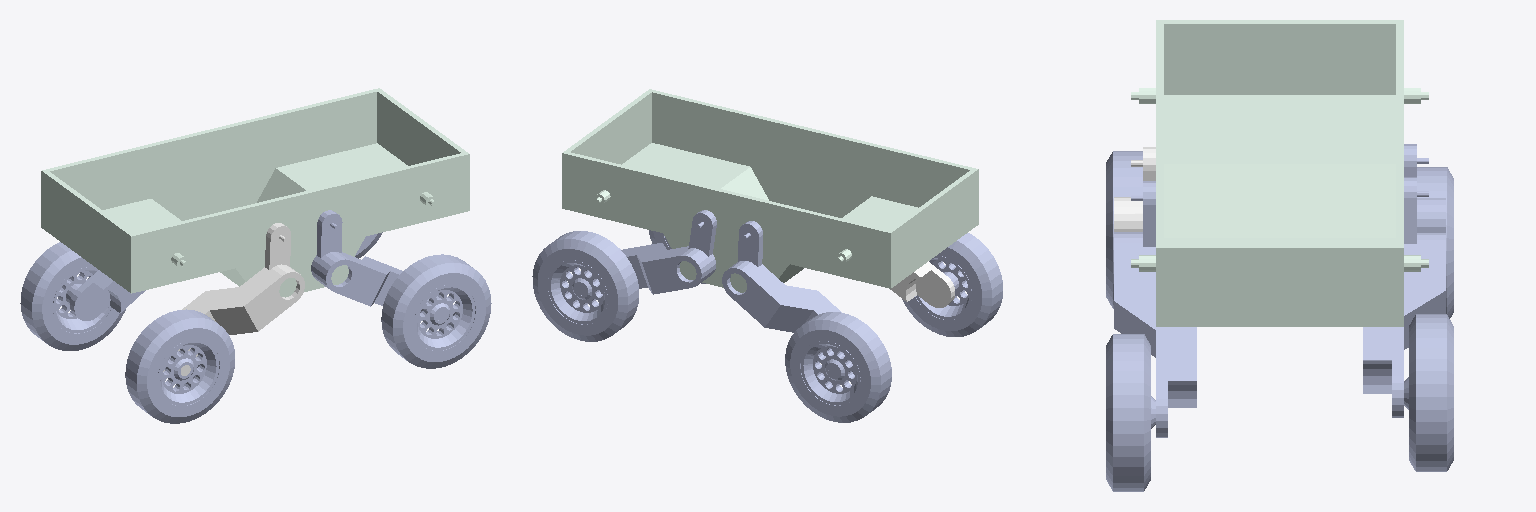
URDF robot description (urdf):
<?xml version="1.0" encoding="utf-8"?>
<!-- This URDF was automatically created by SolidWorks to URDF Exporter! Originally created by [author] ([email redacted]) 
     Commit Version: 1.6.0-4-g7f85cfe  Build Version: 1.6.7995.38578
     For more information, please see http://wiki.ros.org/sw_urdf_exporter -->
<robot
  name="urdf">
  <link
    name="base_link">
    <inertial>
      <origin
        xyz="-1.1833E-17 6.993E-16 -0.18893"
        rpy="0 0 0" />
      <mass
        value="100.00" />
      <inertia
        ixx="2.1994"
        ixy="-6.9796E-16"
        ixz="-1.0409E-15"
        iyy="5.8335"
        iyz="-6.0685E-15"
        izz="7.3738" />
    </inertial>
    <visual>
      <origin
        xyz="0 0 0"
        rpy="0 0 0" />
      <geometry>
        <mesh
          filename="../meshes/base_link.STL" />
      </geometry>
      <material
        name="">
        <color
          rgba="0.92941 1 0.95686 1" />
      </material>
    </visual>
    <collision>
      <origin
        xyz="0 0 0"
        rpy="0 0 0" />
      <geometry>
        <mesh
          filename="../meshes/base_link.STL" />
      </geometry>
    </collision>
  </link>
  <link
    name="lb_Link">
    <inertial>
      <origin
        xyz="-0.167137972568874 0.000576453381228637 -0.0981771092292079"
        rpy="0 0 0" />
      <mass
        value="5" />
      <inertia
        ixx="0.0663395313797743"
        ixy="-0.0198368647273712"
        ixz="-0.052891266693704"
        iyy="0.130501097881963"
        iyz="-0.0131143090440989"
        izz="0.0965282148403548" />
    </inertial>
    <visual>
      <origin
        xyz="0 0 0"
        rpy="0 0 0" />
      <geometry>
        <mesh
          filename="../meshes/lb_Link.STL" />
      </geometry>
      <material
        name="">
        <color
          rgba="0.792156862745098 0.819607843137255 0.933333333333333 1" />
      </material>
    </visual>
    <collision>
      <origin
        xyz="0 0 0"
        rpy="0 0 0" />
      <geometry>
        <mesh
          filename="../meshes/lb_Link.STL" />
      </geometry>
    </collision>
  </link>
  <joint
    name="g_lb"
    type="revolute">
    <origin
      xyz="-0.1 0.3 -0.28"
      rpy="0 0 0" />
    <parent
      link="base_link" />
    <child
      link="lb_Link" />
    <axis
      xyz="0 1 0" />
    <limit
      lower="-0.35"
      upper="0.35"
      effort="10"
      velocity="5" />
    <dynamics
      damping="0.1"
      friction="1" />
    <safety_controller
      soft_upper_limit="0.4"
      soft_lower_limit="-0.4"
      k_position="10"
      k_velocity="5" />
  </joint>
  <link
    name="w_lb">
    <inertial>
      <origin
        xyz="0 -0.0348147111715202 -2.22044604925031E-16"
        rpy="0 0 0" />
      <mass
        value="3.0" />
      <inertia
        ixx="0.104467237310049"
        ixy="-1.15387010199145E-17"
        ixz="2.51330557318112E-17"
        iyy="0.1930974754698"
        iyz="3.04293329425915E-16"
        izz="0.104467237310049" />
    </inertial>
    <visual>
      <origin
        xyz="0 0 0"
        rpy="0 0 0" />
      <geometry>
        <mesh
          filename="../meshes/w_lb.STL" />
      </geometry>
      <material
        name="">
        <color
          rgba="0.792156862745098 0.819607843137255 0.933333333333333 1" />
      </material>
    </visual>
    <collision>
      <origin
        xyz="0 0 0"
        rpy="0 0 0" />
      <geometry>
        <mesh
          filename="../meshes/w_lb.STL" />
      </geometry>
    </collision>
  </link>
  <joint
    name="w_lb"
    type="continuous">
    <origin
      xyz="-0.38089 0.1 -0.23963"
      rpy="0 0 0" />
    <parent
      link="lb_Link" />
    <child
      link="w_lb" />
    <axis
      xyz="0 -1 0" />
    <dynamics
      damping="0.1"
      friction="1" />
  </joint>
  <link
    name="lf_Link">
    <inertial>
      <origin
        xyz="0.182162464509715 0.000576453381228526 -0.0662622303788842"
        rpy="0 0 0" />
      <mass
        value="5" />
      <inertia
        ixx="0.0484781635635341"
        ixy="0.0218850219603635"
        ixz="0.0440368760588216"
        iyy="0.130501097881963"
        iyz="-0.00930226411743767"
        izz="0.114389582656595" />
    </inertial>
    <visual>
      <origin
        xyz="0 0 0"
        rpy="0 0 0" />
      <geometry>
        <mesh
          filename="../meshes/lf_Link.STL" />
      </geometry>
      <material
        name="">
        <color
          rgba="0.792156862745098 0.819607843137255 0.933333333333333 1" />
      </material>
    </visual>
    <collision>
      <origin
        xyz="0 0 0"
        rpy="0 0 0" />
      <geometry>
        <mesh
          filename="../meshes/lf_Link.STL" />
      </geometry>
    </collision>
  </link>
  <joint
    name="g_lf"
    type="revolute">
    <origin
      xyz="0.1 0.3 -0.28"
      rpy="0 0 0" />
    <parent
      link="base_link" />
    <child
      link="lf_Link" />
    <axis
      xyz="0 1 0" />
    <limit
      lower="-0.35"
      upper="0.35"
      effort="10"
      velocity="5" />
    <dynamics
      damping="0.1"
      friction="10" />
    <safety_controller
      soft_upper_limit="0.4"
      soft_lower_limit="-0.4"
      k_position="10"
      k_velocity="5" />
  </joint>
  <link
    name="w_lf">
    <inertial>
      <origin
        xyz="-1.1102E-16 -0.034815 -1.1102E-16"
        rpy="0 0 0" />
      <mass
        value="3" />
      <inertia
        ixx="0.10447"
        ixy="8.1879E-18"
        ixz="-2.2896E-18"
        iyy="0.1931"
        iyz="3.077E-16"
        izz="0.10447" />
    </inertial>
    <visual>
      <origin
        xyz="0 0 0"
        rpy="0 0 0" />
      <geometry>
        <mesh
          filename="../meshes/w_lf.STL" />
      </geometry>
      <material
        name="">
        <color
          rgba="0.79216 0.81961 0.93333 1" />
      </material>
    </visual>
    <collision>
      <origin
        xyz="0 0 0"
        rpy="0 0 0" />
      <geometry>
        <mesh
          filename="../meshes/w_lf.STL" />
      </geometry>
    </collision>
  </link>
  <joint
    name="w_lf"
    type="continuous">
    <origin
      xyz="0.41801041206503 0.100000000000001 -0.166635216581701"
      rpy="0 0 0" />
    <parent
      link="lf_Link" />
    <child
      link="w_lf" />
    <axis
      xyz="0 -1 0" />
    <dynamics
      damping="0.1"
      friction="1" />
  </joint>
  <link
    name="rf_Link">
    <inertial>
      <origin
        xyz="0.168550228896527 -0.00057645338122797 -0.0957322672350638"
        rpy="0 0 0" />
      <mass
        value="5" />
      <inertia
        ixx="0.0648053370600335"
        ixy="-0.0200257752517811"
        ixz="0.0524291620528891"
        iyy="0.130501097881963"
        iyz="0.0128239864894397"
        izz="0.098062409160096" />
    </inertial>
    <visual>
      <origin
        xyz="0 0 0"
        rpy="0 0 0" />
      <geometry>
        <mesh
          filename="../meshes/rf_Link.STL" />
      </geometry>
      <material
        name="">
        <color
          rgba="0.792156862745098 0.819607843137255 0.933333333333333 1" />
      </material>
    </visual>
    <collision>
      <origin
        xyz="0 0 0"
        rpy="0 0 0" />
      <geometry>
        <mesh
          filename="../meshes/rf_Link.STL" />
      </geometry>
    </collision>
  </link>
  <joint
    name="g_rf"
    type="revolute">
    <origin
      xyz="0.1 -0.3 -0.28"
      rpy="0 0 0" />
    <parent
      link="base_link" />
    <child
      link="rf_Link" />
    <axis
      xyz="0 -1 0" />
    <limit
      lower="-0.35"
      upper="0.35"
      effort="10"
      velocity="5" />
    <dynamics
      damping="0.1"
      friction="10" />
    <safety_controller
      soft_upper_limit="0.4"
      soft_lower_limit="-0.4"
      k_position="10"
      k_velocity="5" />
  </joint>
  <link
    name="w_rf">
    <inertial>
      <origin
        xyz="5.5511E-17 0.034815 3.3307E-16"
        rpy="0 0 0" />
      <mass
        value="3" />
      <inertia
        ixx="0.10447"
        ixy="-7.0345E-18"
        ixz="4.6686E-18"
        iyy="0.1931"
        iyz="3.0683E-16"
        izz="0.10447" />
    </inertial>
    <visual>
      <origin
        xyz="0 0 0"
        rpy="0 0 0" />
      <geometry>
        <mesh
          filename="../meshes/w_rf.STL" />
      </geometry>
      <material
        name="">
        <color
          rgba="0.79216 0.81961 0.93333 1" />
      </material>
    </visual>
    <collision>
      <origin
        xyz="0 0 0"
        rpy="0 0 0" />
      <geometry>
        <mesh
          filename="../meshes/w_rf.STL" />
      </geometry>
    </collision>
  </link>
  <joint
    name="w_rf"
    type="continuous">
    <origin
      xyz="0.38434 -0.1 -0.23406"
      rpy="0 0 0" />
    <parent
      link="rf_Link" />
    <child
      link="w_rf" />
    <axis
      xyz="0 1 0" />
    <dynamics
      damping="0.1"
      friction="1" />
  </joint>
  <link
    name="rb_Link">
    <inertial>
      <origin
        xyz="0 0 0"
        rpy="0 0 0" />
      <mass
        value="5" />
      <inertia
        ixx="0.0648053370600335"
        ixy="-0.0200257752517811"
        ixz="0.0524291620528891"
        iyy="0.130501097881963"
        iyz="0.0128239864894397"
        izz="0.098062409160096" />
    </inertial>
    <visual>
      <origin
        xyz="0 0 0"
        rpy="0 0 0" />
      <geometry>
        <mesh
          filename="../meshes/rb_Link.STL" />
      </geometry>
      <material
        name="">
        <color
          rgba="1 1 1 1" />
      </material>
    </visual>
    <collision>
      <origin
        xyz="0 0 0"
        rpy="0 0 0" />
      <geometry>
        <mesh
          filename="../meshes/rb_Link.STL" />
      </geometry>
    </collision>
  </link>
  <joint
    name="g_rb"
    type="revolute">
    <origin
      xyz="-0.1 -0.3 -0.28"
      rpy="0 0 0" />
    <parent
      link="base_link" />
    <child
      link="rb_Link" />
    <axis
      xyz="0 -1 0" />
    <limit
      lower="-0.35"
      upper="0.35"
      effort="10"
      velocity="5" />
    <dynamics
      damping="0.1"
      friction="10" />
    <safety_controller
      soft_upper_limit="0.4"
      soft_lower_limit="-0.4"
      k_position="10"
      k_velocity="5" />
  </joint>
  <link
    name="w_rb">
    <inertial>
      <origin
        xyz="0 0.0348147111715202 1.66533453693773E-16"
        rpy="0 0 0" />
      <mass
        value="3" />
      <inertia
        ixx="0.104467237310048"
        ixy="1.24691549036498E-17"
        ixz="8.01372577441378E-18"
        iyy="0.1930974754698"
        iyz="3.14881058461125E-16"
        izz="0.104467237310049" />
    </inertial>
    <visual>
      <origin
        xyz="0 0 0"
        rpy="0 0 0" />
      <geometry>
        <mesh
          filename="../meshes/w_rb.STL" />
      </geometry>
      <material
        name="">
        <color
          rgba="0.792156862745098 0.819607843137255 0.933333333333333 1" />
      </material>
    </visual>
    <collision>
      <origin
        xyz="0 0 0"
        rpy="0 0 0" />
      <geometry>
        <mesh
          filename="../meshes/w_rb.STL" />
      </geometry>
    </collision>
  </link>
  <joint
    name="w_rb"
    type="continuous">
    <origin
      xyz="-0.39963 -0.1 -0.20687"
      rpy="0 0 0" />
    <parent
      link="rb_Link" />
    <child
      link="w_rb" />
    <axis
      xyz="0 1 0" />
    <dynamics
      damping="0.1"
      friction="1" />
  </joint>
</robot>

--- Facts derived from the render (not from the file) ---
Views: 3 orthographic renders of the robot side by side, from view 1: azimuth 30°, elevation 25°; view 2: azimuth 150°, elevation 25°; view 3: azimuth 270°, elevation 25°.
Robot: urdf — 9 links, 8 joints (4 revolute, 4 continuous); root link base_link; default pose: all joints at 0.
Links seen in each view (by area): view 1: base_link, w_rb, w_rf, w_lb, rb_Link, rf_Link, lb_Link; view 2: base_link, w_lb, w_lf, w_rb, lb_Link, lf_Link, rb_Link; view 3: base_link, rf_Link, lf_Link, w_rf, w_lf, w_rb, w_lb, lb_Link, rb_Link.
Link boxes in pixels (x1,y1,x2,y2): base_link: (41, 88, 469, 297); w_rb: (125, 309, 234, 423); w_rf: (381, 254, 491, 368); w_lb: (20, 242, 125, 350); rb_Link: (163, 223, 304, 375); rf_Link: (311, 210, 446, 320); lb_Link: (70, 270, 145, 320); base_link: (562, 89, 978, 292); w_lb: (785, 312, 891, 422); w_lf: (532, 231, 638, 341); w_rb: (902, 233, 1002, 336); lb_Link: (722, 221, 854, 375); lf_Link: (576, 210, 716, 294); rb_Link: (890, 261, 954, 307); base_link: (1131, 20, 1428, 326); rf_Link: (1114, 181, 1196, 437); lf_Link: (1363, 177, 1445, 417); w_rf: (1106, 334, 1155, 491); w_lf: (1404, 314, 1453, 471); w_rb: (1106, 151, 1142, 308); w_lb: (1417, 167, 1453, 318); lb_Link: (1404, 144, 1445, 232); rb_Link: (1114, 147, 1155, 231).
Bounding box of the posed robot: 1.4 × 0.84 × 0.7094 m (x, y, z).
Meshes: 9 distinct files referenced, 9 mesh visuals loaded (9 binary STL).